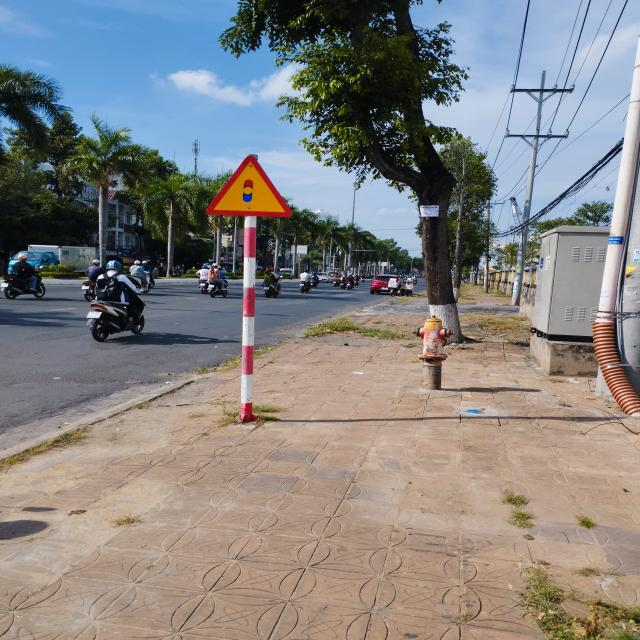Duong_Co_Go_Giam_Toc: (206, 155, 291, 217)
